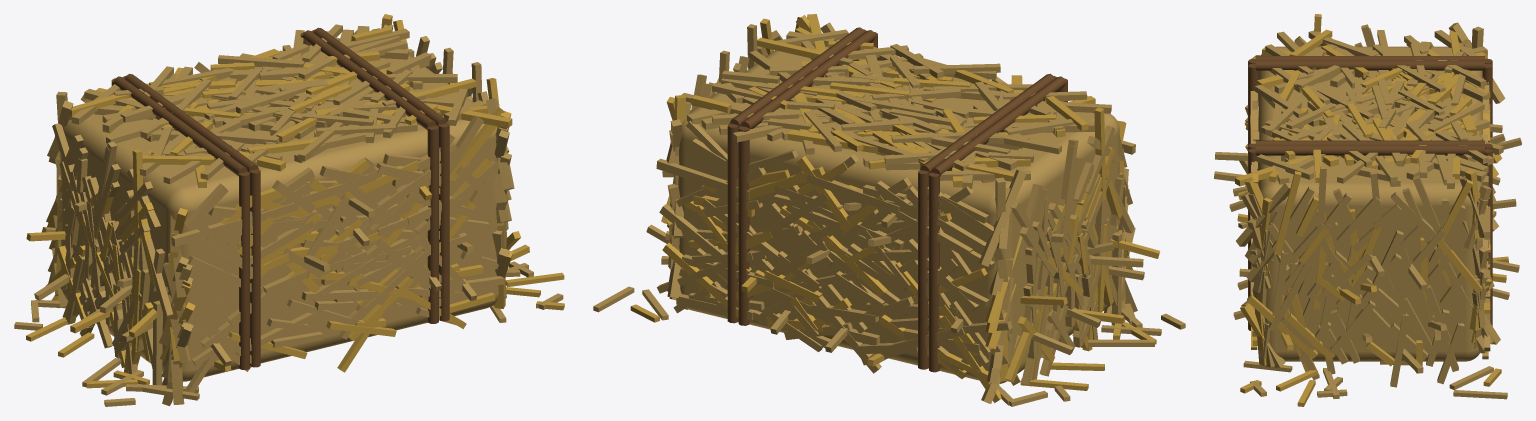
File: hay-bale.glb
The picture shows the model from 3 angles, left to right: view 1: azimuth 30°, elevation 25°; view 2: azimuth 150°, elevation 25°; view 3: azimuth 270°, elevation 25°; orthographic projection. The views are drawn at different scales.
Visible parts, largest first — view 1: hay-bale-farm-thatch, hay-bale-farm-gold, hay-bale-farm-wood-shadow; view 2: hay-bale-farm-thatch, hay-bale-farm-gold, hay-bale-farm-wood-shadow; view 3: hay-bale-farm-thatch, hay-bale-farm-gold, hay-bale-farm-wood-shadow.
Part boxes in pixels (<box>): hay-bale-farm-thatch: <box>14,24,563,406</box>; hay-bale-farm-gold: <box>26,14,564,388</box>; hay-bale-farm-wood-shadow: <box>111,27,449,369</box>; hay-bale-farm-thatch: <box>593,22,1185,406</box>; hay-bale-farm-gold: <box>630,14,1160,402</box>; hay-bale-farm-wood-shadow: <box>727,27,1067,372</box>; hay-bale-farm-thatch: <box>1214,22,1521,399</box>; hay-bale-farm-gold: <box>1235,14,1508,406</box>; hay-bale-farm-wood-shadow: <box>1248,56,1492,330</box>.
Size of the model in its own units: 2.12 by 1.01 by 1.29.
